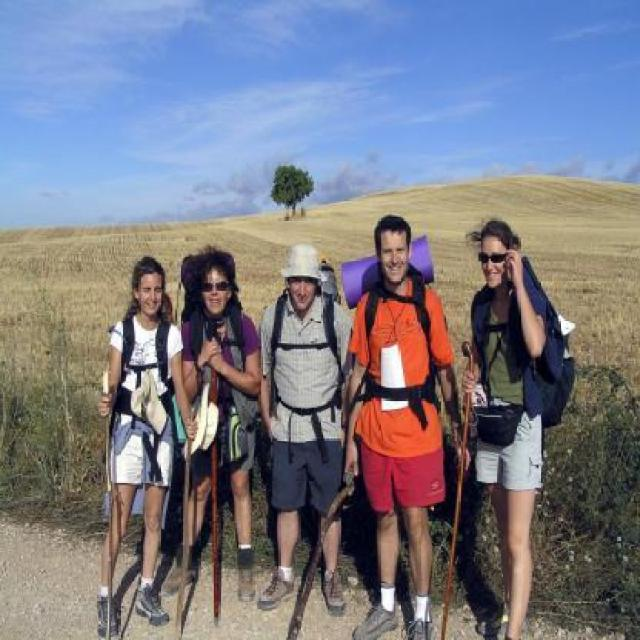backpack: (543, 296, 577, 430), (271, 288, 289, 362), (412, 277, 431, 337), (322, 296, 338, 366), (228, 306, 246, 366), (470, 289, 488, 345), (155, 322, 171, 382), (120, 318, 135, 380), (188, 314, 205, 355), (368, 284, 380, 334)
